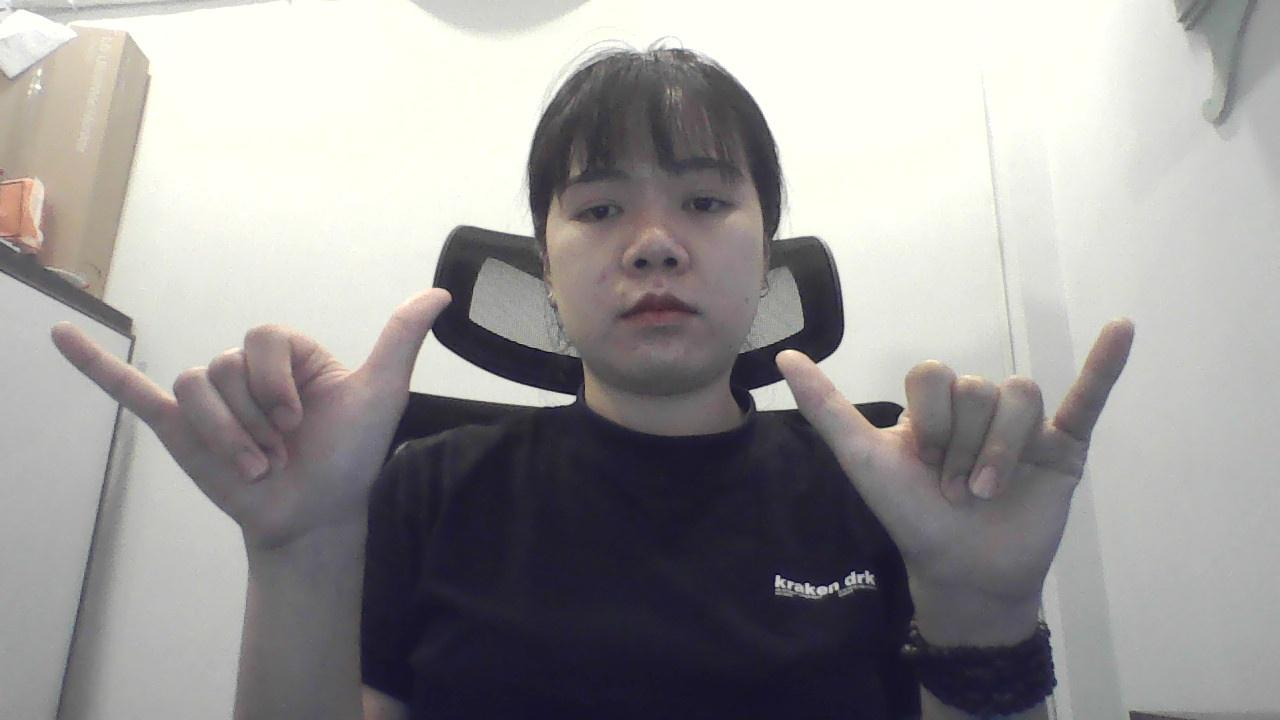Y: (734, 300, 1168, 612), (44, 264, 490, 560)
